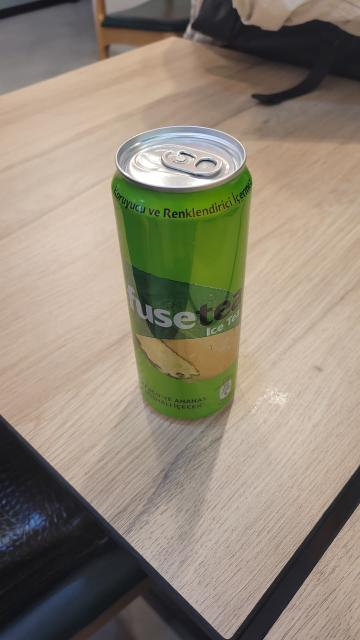Metal: (112, 119, 249, 425)
